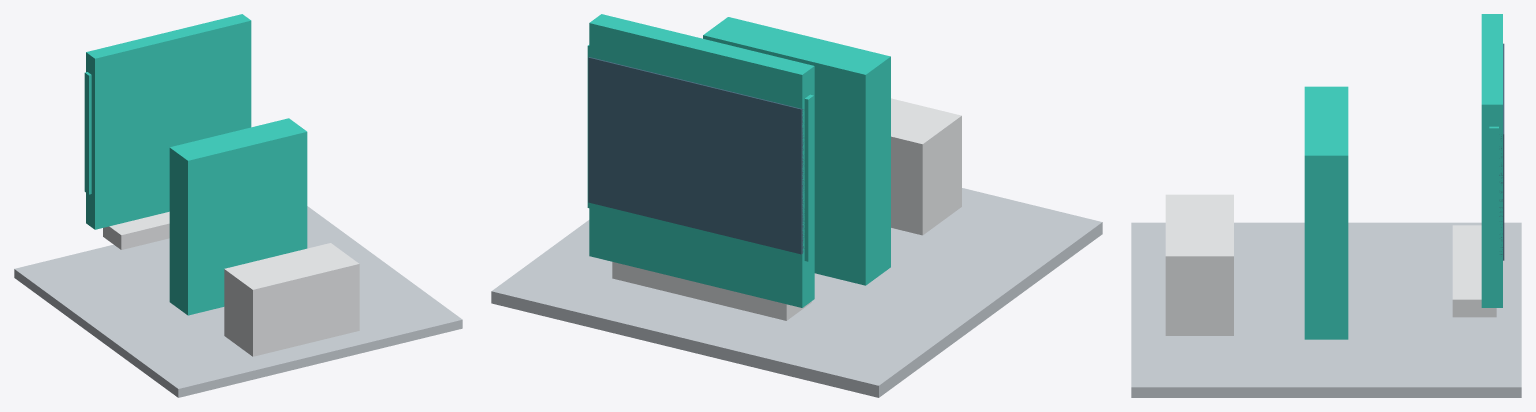
The picture shows the model from 3 angles, left to right: view 1: azimuth 30°, elevation 25°; view 2: azimuth 150°, elevation 25°; view 3: azimuth 270°, elevation 25°; orthographic projection. The views are drawn at different scales.
Parts seen in each view (by area): view 1: Exhibition Booth Concept; view 2: Exhibition Booth Concept; view 3: Exhibition Booth Concept.
Boxes of the visible parts, bbox=[...] form: Exhibition Booth Concept: bbox=[14, 14, 462, 397]; Exhibition Booth Concept: bbox=[491, 14, 1102, 397]; Exhibition Booth Concept: bbox=[1131, 14, 1521, 397].
Size of the model in its own units: 4 by 2.9 by 4.
